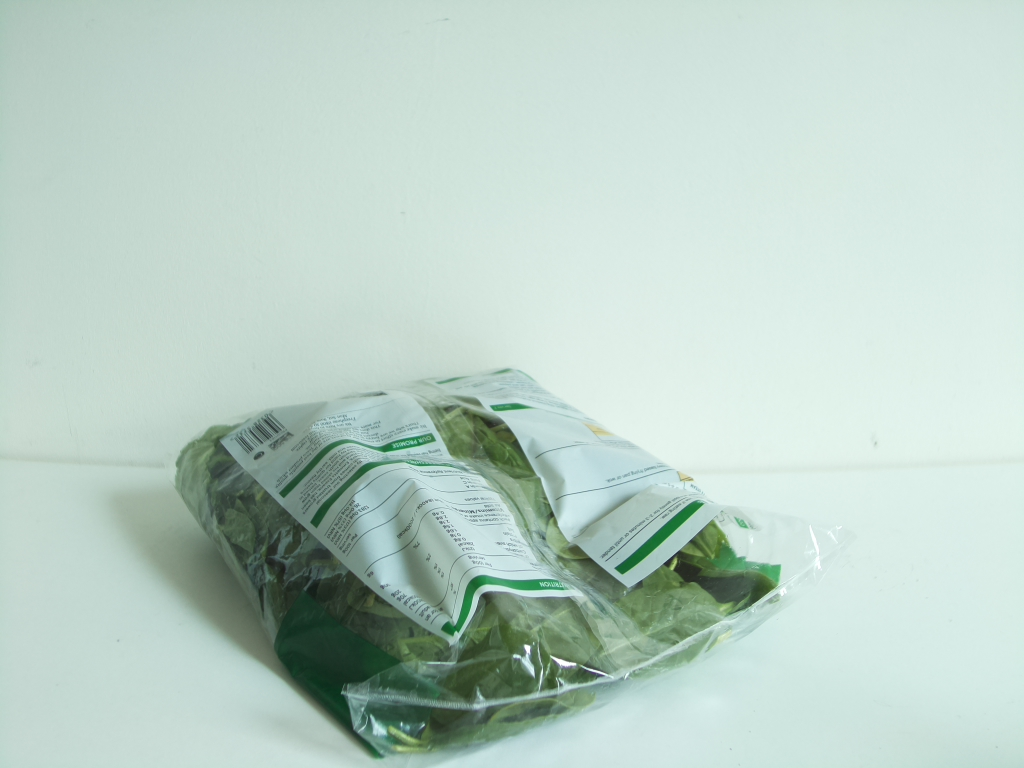salad: (173, 370, 784, 759)
